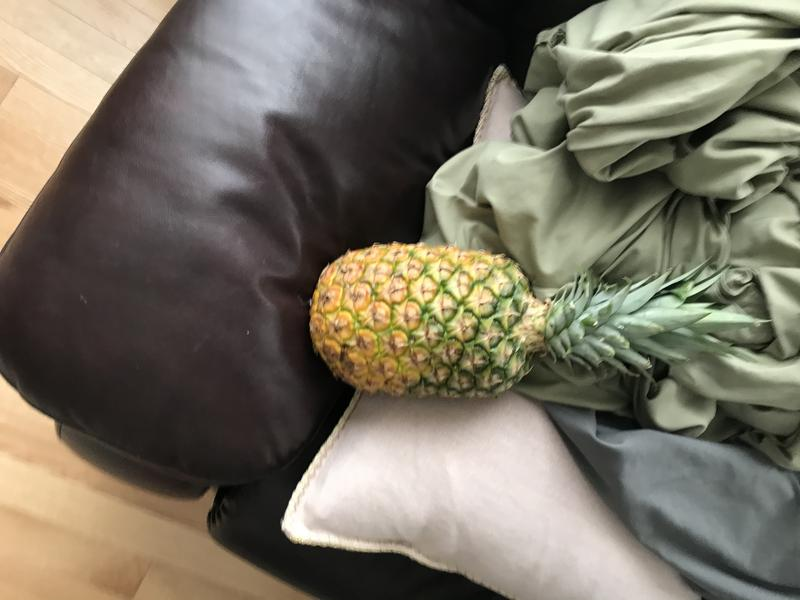pineapple: (296, 230, 776, 413)
